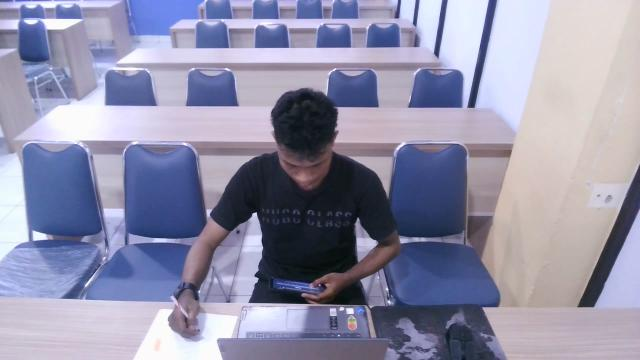Head_Down_Extreme: (204, 77, 421, 329)
Mobile_Phone: (267, 270, 332, 302)
